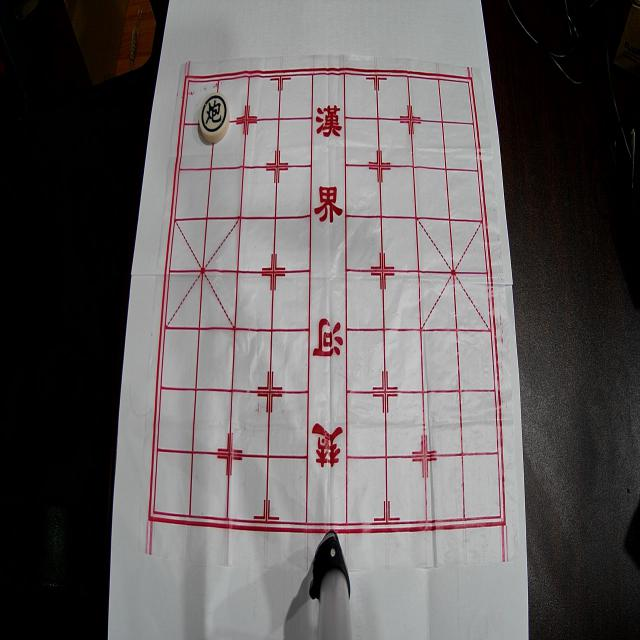black-cannon: (200, 93, 230, 143)
